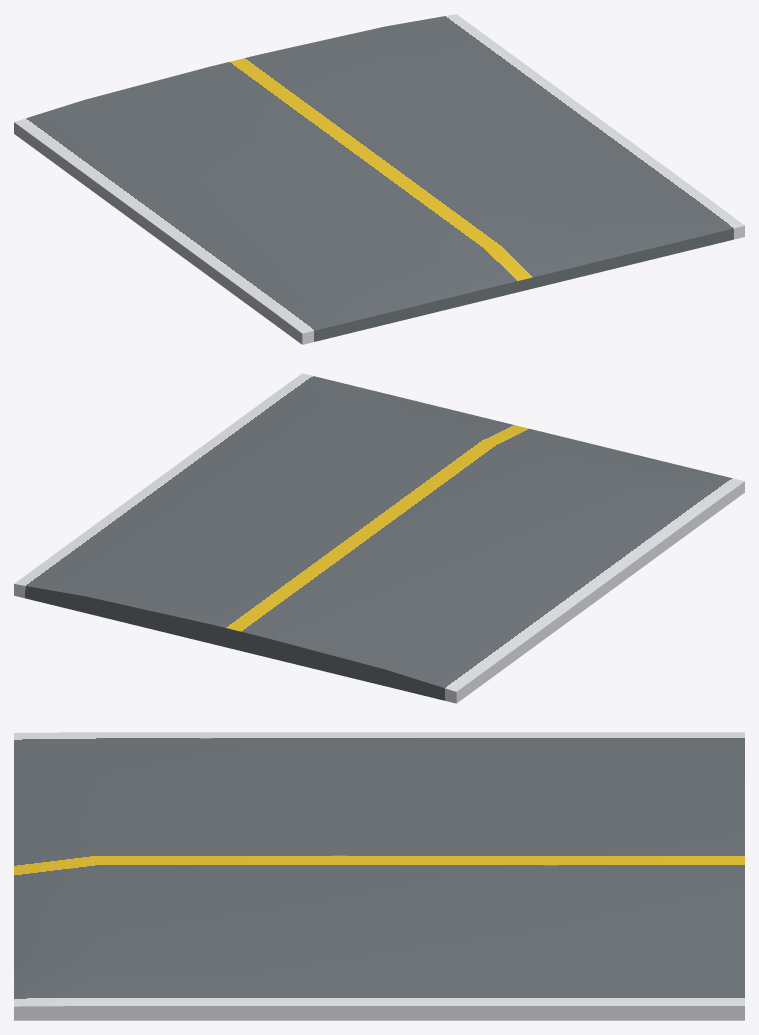
The model's file is Road_Cap.fbx.
The picture shows the model from 3 angles, top to bottom: view 1: azimuth 30°, elevation 25°; view 2: azimuth 150°, elevation 25°; view 3: azimuth 270°, elevation 25°; orthographic projection. The views are drawn at different scales.
Parts seen in each view (by area): view 1: Cube; view 2: Cube; view 3: Cube.
Boxes of the visible parts, left/top/right/bottom form: Cube: left=14, top=14, right=744, bottom=344; Cube: left=14, top=373, right=744, bottom=703; Cube: left=14, top=732, right=744, bottom=1020.
Size of the model in its own units: 1176 by 49.21 by 1328.
